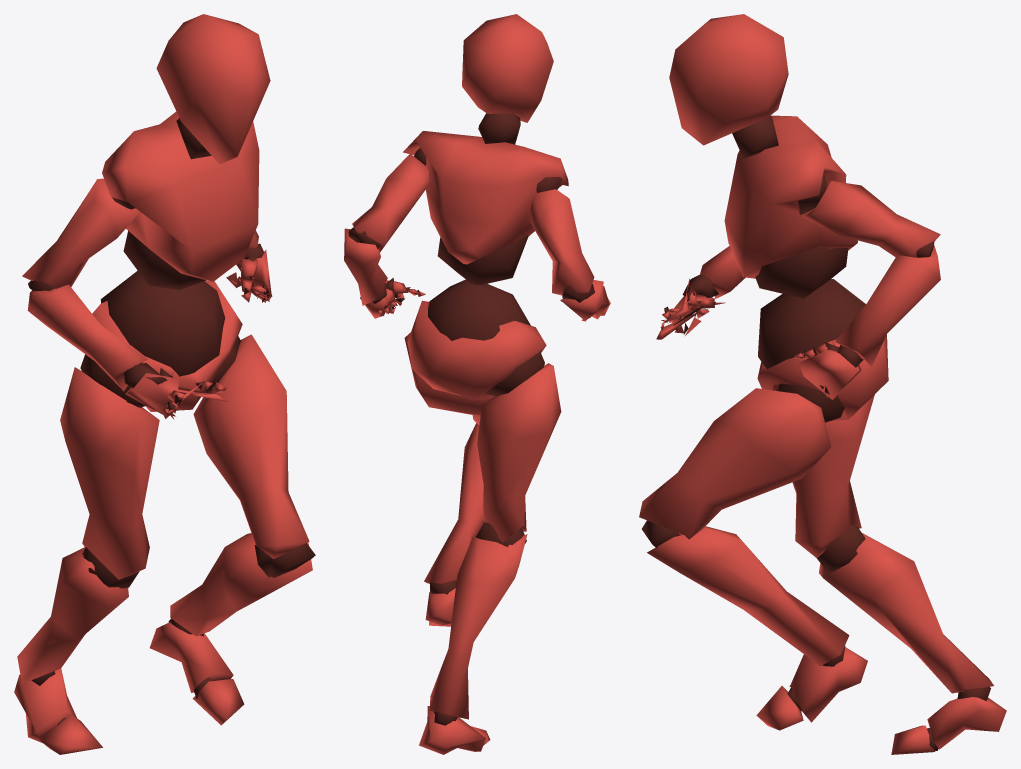
The picture shows the model from 3 angles, left to right: view 1: azimuth 30°, elevation 25°; view 2: azimuth 150°, elevation 25°; view 3: azimuth 270°, elevation 25°; orthographic projection. The views are drawn at different scales.
Parts seen in each view (by area): view 1: Beta_Surface.001; view 2: Beta_Surface.001; view 3: Beta_Surface.001.
Part boxes in pixels (left/top/right/bottom): Beta_Surface.001: left=14, top=14, right=315, bottom=754; Beta_Surface.001: left=344, top=14, right=610, bottom=754; Beta_Surface.001: left=639, top=14, right=1006, bottom=754.
Size of the model in its own units: 5.05 by 14.74 by 6.5.
